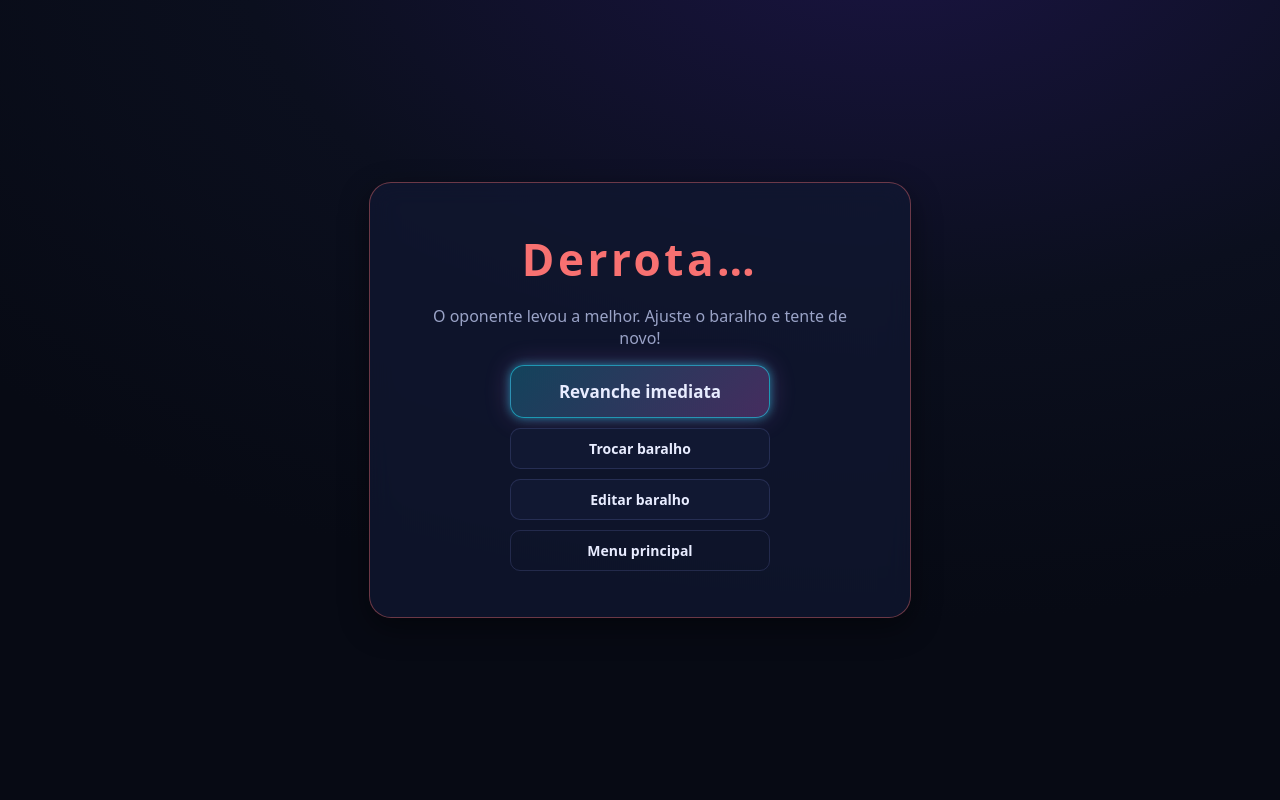
fluxo de produto (UI real) › 30) voltar para o menu a partir do resultado
expect the heading "Derrota…" is shown: met, box [522, 229, 758, 289]
Click the button with test id "results-menu" at (640, 550), box [510, 530, 770, 571]
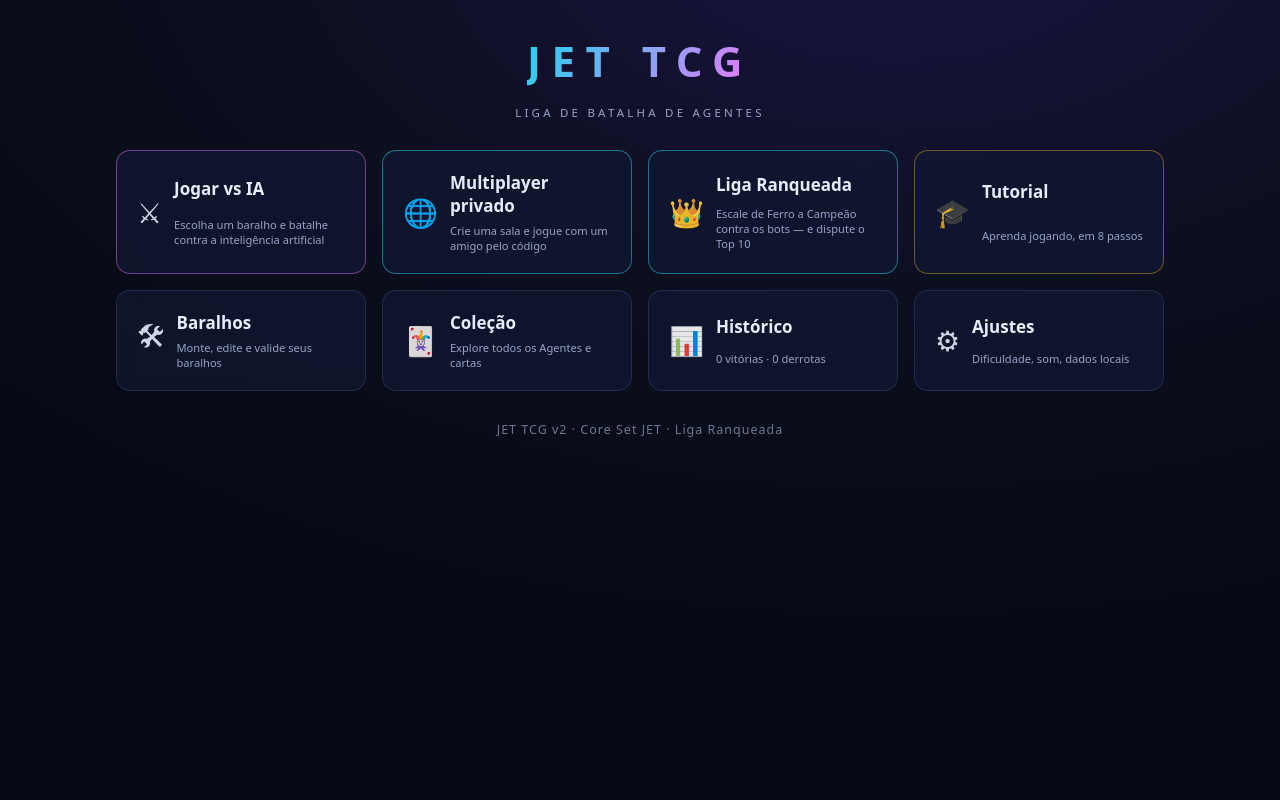
expect the element with test id "menu-screen" is shown: met, box [116, 32, 1164, 438]
